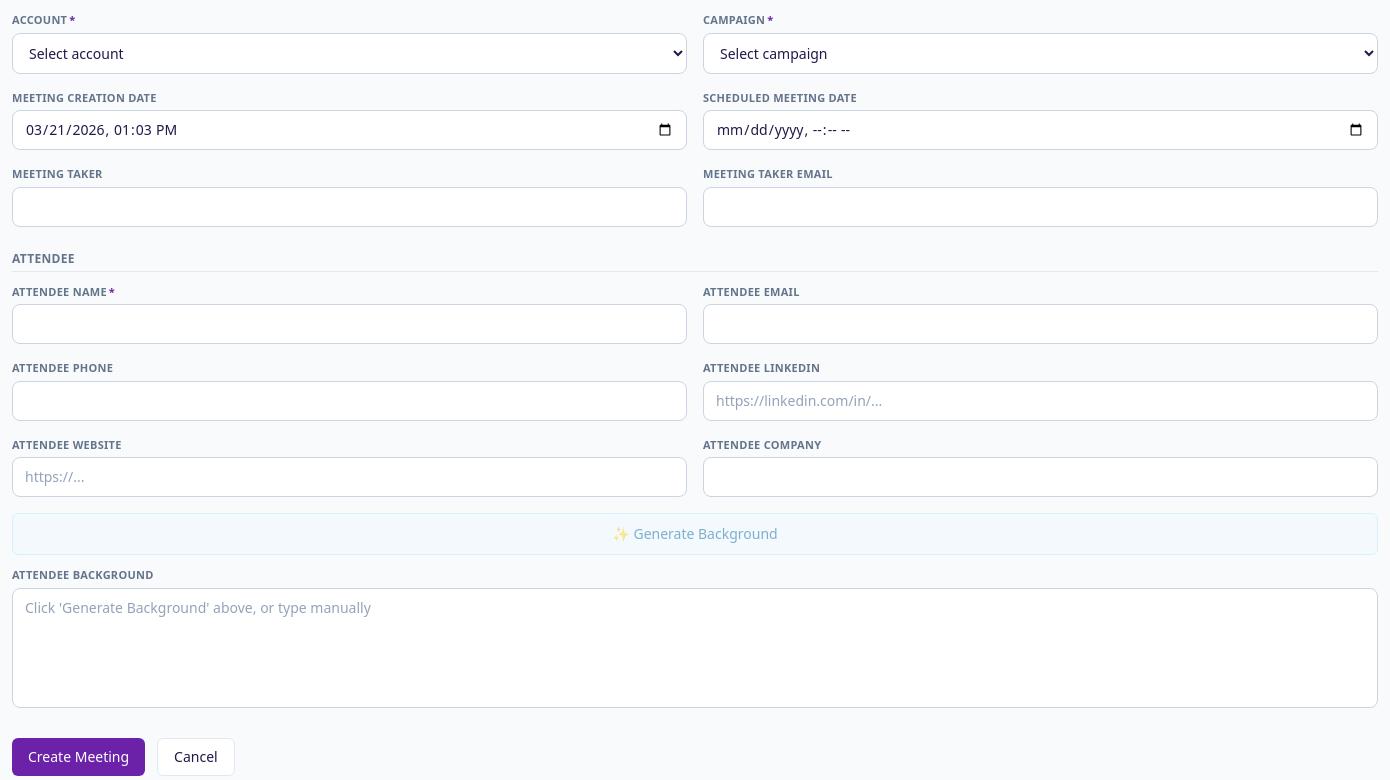
Test: MeetingForm › Generate Background button is enabled when Attendee Name is filled
Type "Jane" into the field labelled "Attendee Name*" at (350, 324), box [12, 304, 687, 344]
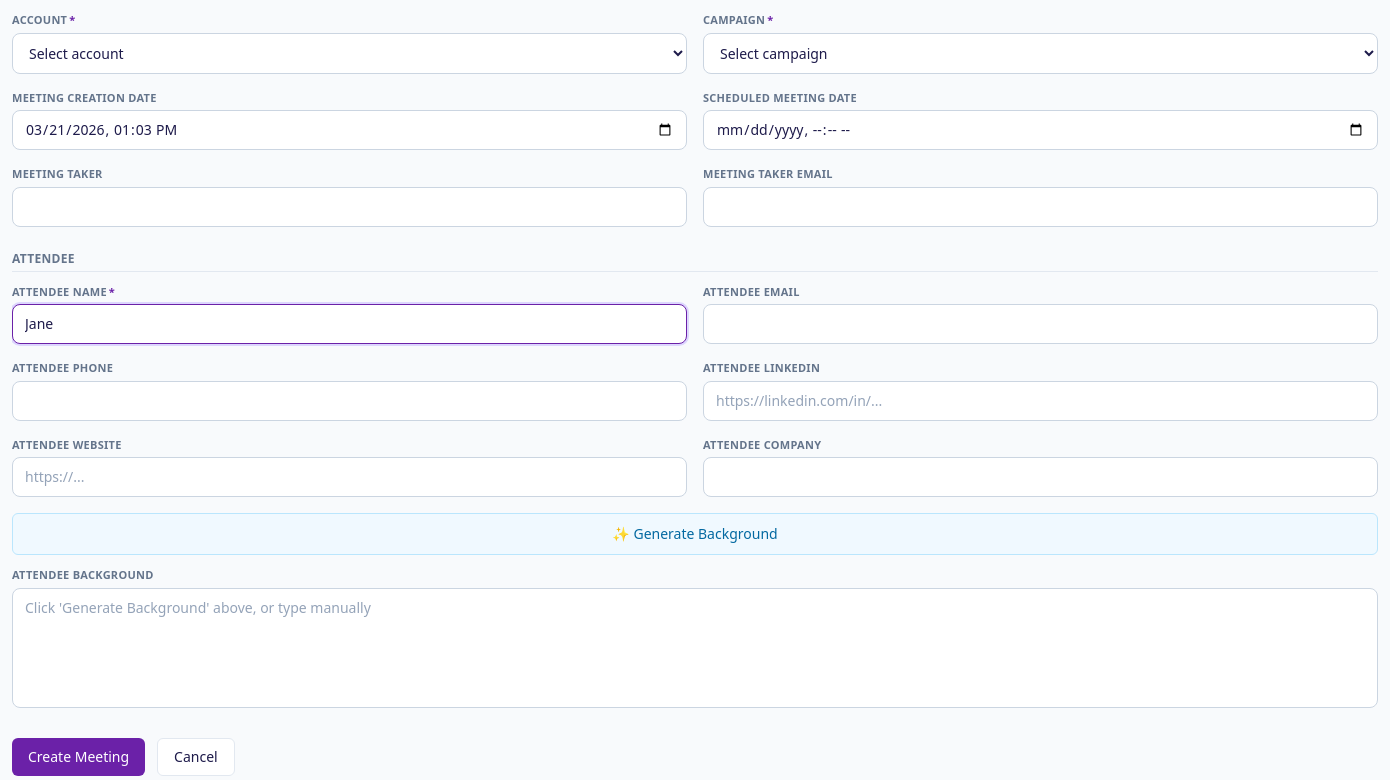
Expected: the button "✨ Generate Background" is enabled, [12, 513, 1378, 555]
